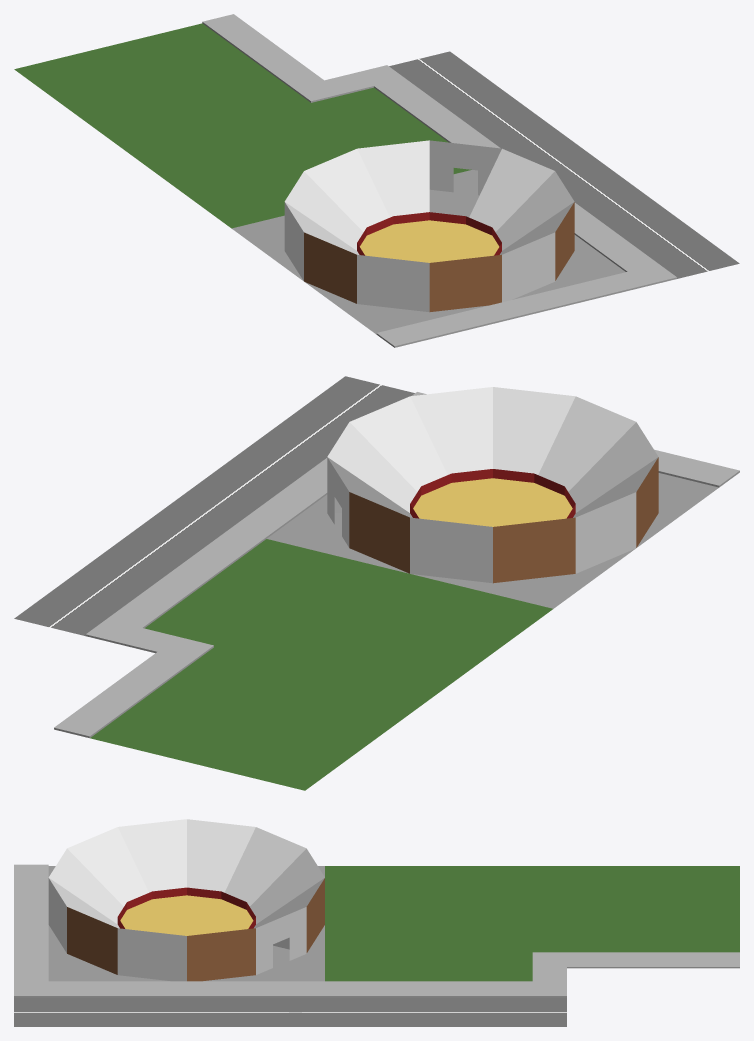
The model's file is bull_arena.glb.
3 views of the same model, one above another, from view 1: azimuth 30°, elevation 25°; view 2: azimuth 150°, elevation 25°; view 3: azimuth 270°, elevation 25° (orthographic). The views are drawn at different scales.
Visible parts, largest first — view 1: Circle, Plane; view 2: Circle, Plane; view 3: Circle, Plane.
Boxes of the visible parts, box(x1,y1,x2,y2) form: Circle: box(14, 14, 677, 347); Plane: box(389, 51, 739, 278); Circle: box(54, 387, 739, 790); Plane: box(14, 376, 414, 635); Circle: box(14, 819, 739, 997); Plane: box(14, 997, 566, 1026).
Size of what is drawn, in the model's own units: 44 by 6 by 84.
9 materials, 1 textured.
